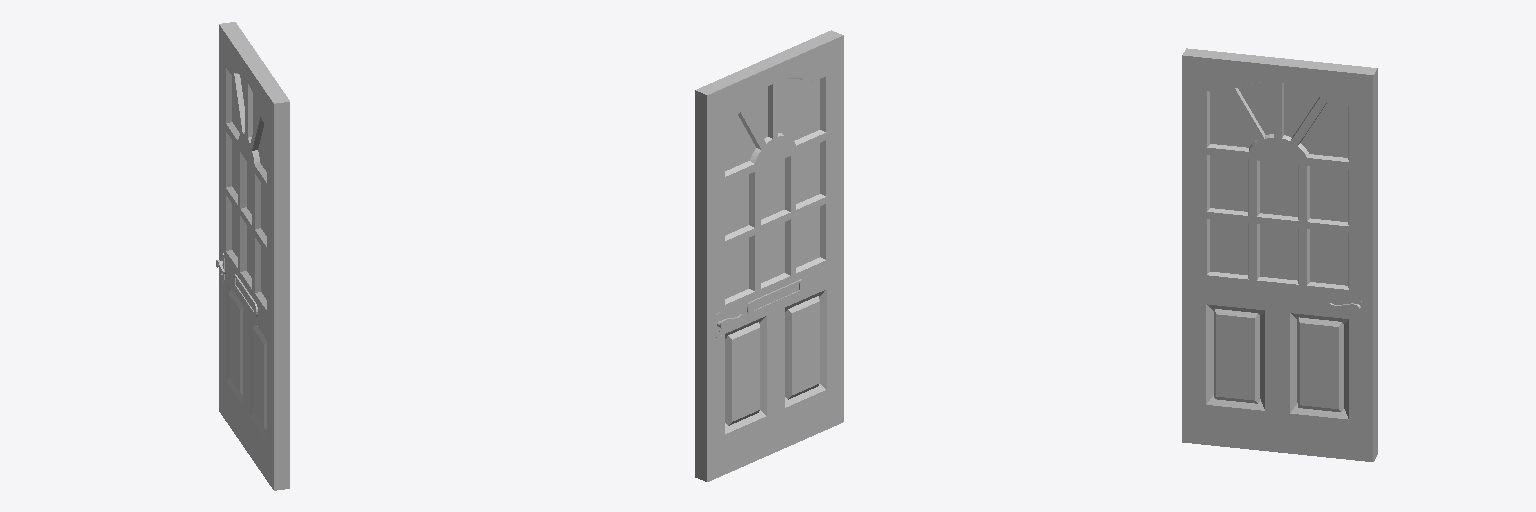
File: door2_000015.obj
The picture shows the model from 3 angles: view 1: azimuth 30°, elevation 25°; view 2: azimuth 150°, elevation 25°; view 3: azimuth 270°, elevation 25°; orthographic projection.
Visible parts, largest first — view 1: Door.000_Door.004; view 2: Door.000_Door.004; view 3: Door.000_Door.004.
Boxes of the visible parts, box(x1,y1,x2,y2) form: Door.000_Door.004: box(216, 22, 289, 490); Door.000_Door.004: box(695, 30, 843, 481); Door.000_Door.004: box(1182, 48, 1377, 461).
Bounding box in the file's own units: 0.251 × 1.6 × 0.7336.